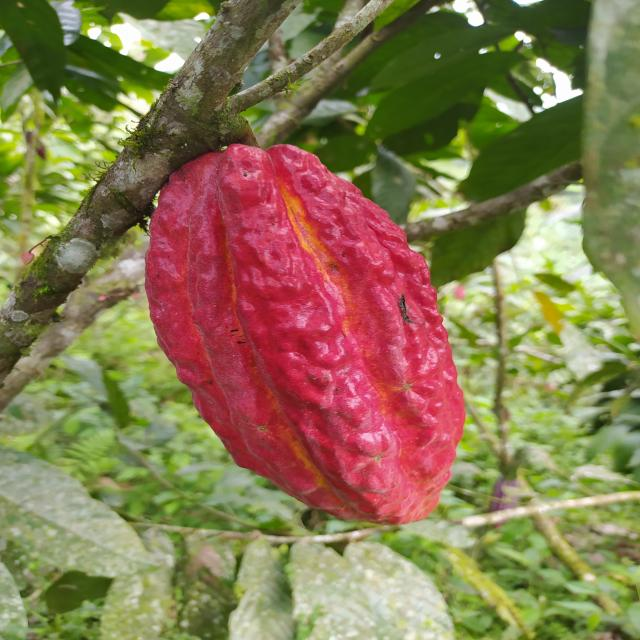Sana: (144, 141, 469, 528)
